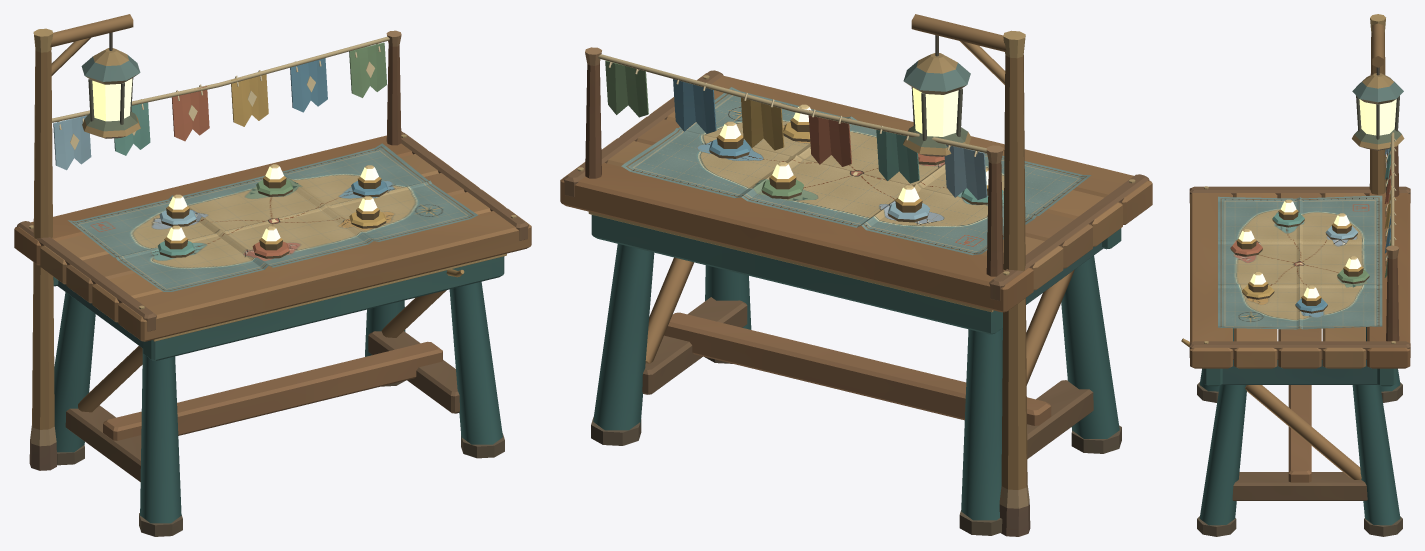
Rendered from voyage_chart.glb.
3 renders of one model, left to right at view 1: azimuth 30°, elevation 25°; view 2: azimuth 150°, elevation 25°; view 3: azimuth 270°, elevation 25°, orthographic. The views are drawn at different scales.
Parts seen in each view (by area): view 1: SurveyTrestle, FoldoutChart, CatchPennant_forest, CatchPennant_lake, CatchPennant_snow, CatchPennant_desert, CatchPennant_volcano, CatchPennant_tide; view 2: SurveyTrestle, FoldoutChart, CatchPennant_forest, CatchPennant_snow, CatchPennant_lake, CatchPennant_volcano, CatchPennant_desert, CatchPennant_tide; view 3: SurveyTrestle, FoldoutChart, ChartToken_volcano, ChartToken_desert, ChartToken_forest, ChartToken_snow, ChartToken_lake, ChartToken_tide.
Part boxes in pixels (x1,y1,x2,y2): SurveyTrestle: (14, 14, 531, 536); FoldoutChart: (68, 143, 477, 291); CatchPennant_forest: (349, 42, 386, 97); CatchPennant_lake: (290, 58, 327, 112); CatchPennant_snow: (53, 115, 91, 170); CatchPennant_desert: (231, 70, 268, 126); CatchPennant_volcano: (171, 84, 209, 141); CatchPennant_tide: (114, 99, 150, 155); SurveyTrestle: (560, 14, 1152, 536); FoldoutChart: (621, 87, 1091, 255); CatchPennant_forest: (605, 60, 648, 117); CatchPennant_snow: (944, 144, 987, 199); CatchPennant_lake: (673, 79, 716, 133); CatchPennant_volcano: (808, 109, 851, 166); CatchPennant_desert: (741, 92, 784, 150); CatchPennant_tide: (876, 125, 919, 183); SurveyTrestle: (1181, 14, 1410, 536); FoldoutChart: (1218, 195, 1382, 329); ChartToken_volcano: (1236, 229, 1256, 249); ChartToken_desert: (1248, 272, 1268, 292); ChartToken_forest: (1343, 256, 1363, 276); ChartToken_snow: (1332, 213, 1351, 233); ChartToken_lake: (1301, 285, 1321, 305); ChartToken_tide: (1278, 199, 1298, 219).
Bounding box in the file's own units: 1.85 × 1.96 × 1.1.
3 materials, 2 textured.
